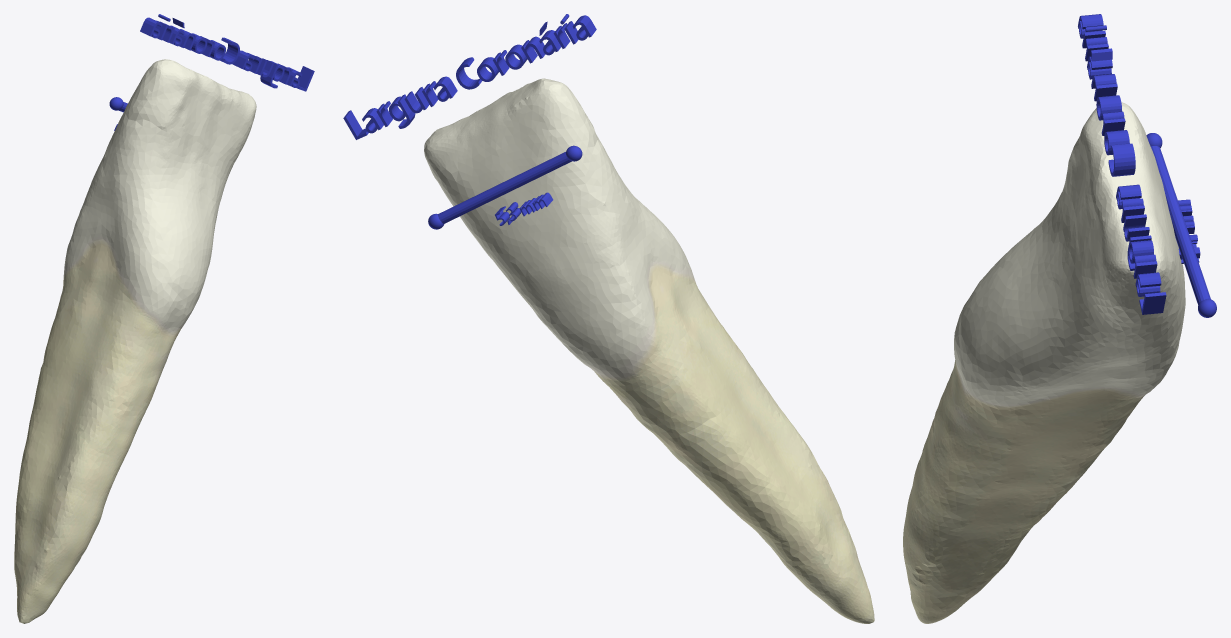
The model's file is 31 - Largura Coronária.glb.
3 views of the same model, side by side, from view 1: azimuth 30°, elevation 25°; view 2: azimuth 150°, elevation 25°; view 3: azimuth 270°, elevation 25° (orthographic). The views are drawn at different scales.
Parts seen in each view (by area): view 1: 3MFMeshParent_0, 3MFMeshParent_1; view 2: 3MFMeshParent_0, 3MFMeshParent_1, 3MFMeshParent_3, 3MFMeshParent_2; view 3: 3MFMeshParent_0, 3MFMeshParent_1, 3MFMeshParent_3, 3MFMeshParent_2.
Boxes of the visible parts, x1,y1,x2,y2 form: 3MFMeshParent_0: [14, 59, 256, 623]; 3MFMeshParent_1: [140, 14, 314, 91]; 3MFMeshParent_0: [424, 78, 874, 623]; 3MFMeshParent_1: [343, 14, 596, 139]; 3MFMeshParent_3: [438, 152, 571, 223]; 3MFMeshParent_2: [495, 192, 553, 225]; 3MFMeshParent_0: [903, 102, 1185, 623]; 3MFMeshParent_1: [1078, 14, 1166, 314]; 3MFMeshParent_3: [1150, 146, 1210, 304]; 3MFMeshParent_2: [1178, 199, 1200, 263].
Bounding box in the file's own units: 0.4316 × 0.5696 × 0.2214.
Materials: 2 (1 with a texture image).
